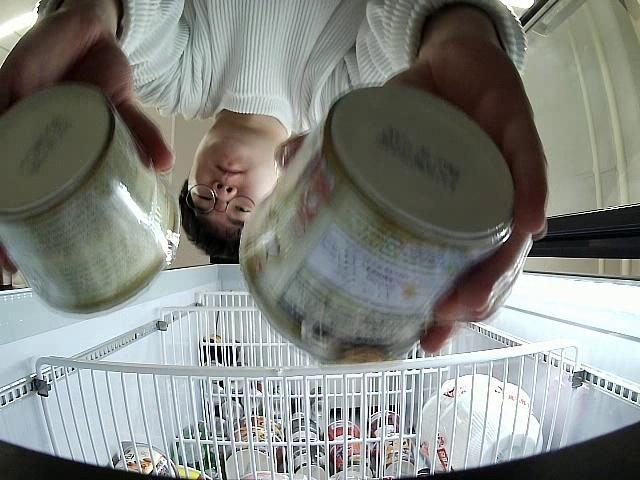04_chapagetti_S: (240, 87, 514, 364), (3, 84, 182, 316)
